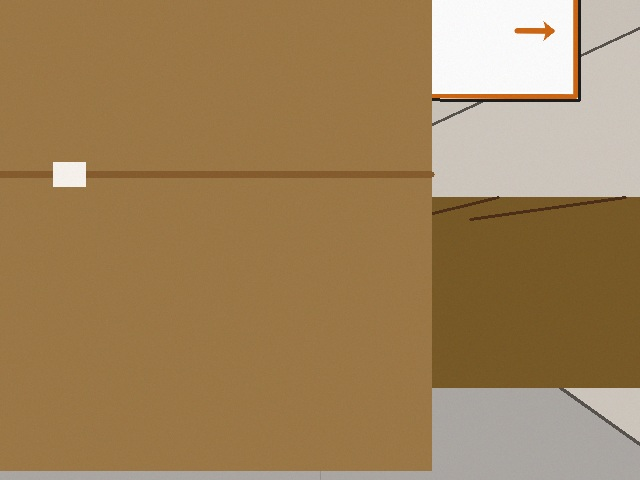box: (0, 0, 431, 470)
charging_station: (126, 152, 207, 287)
directional_sign: (299, 0, 579, 100)
pallet: (245, 197, 639, 387)
